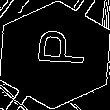P_W: (26, 35, 84, 75)
